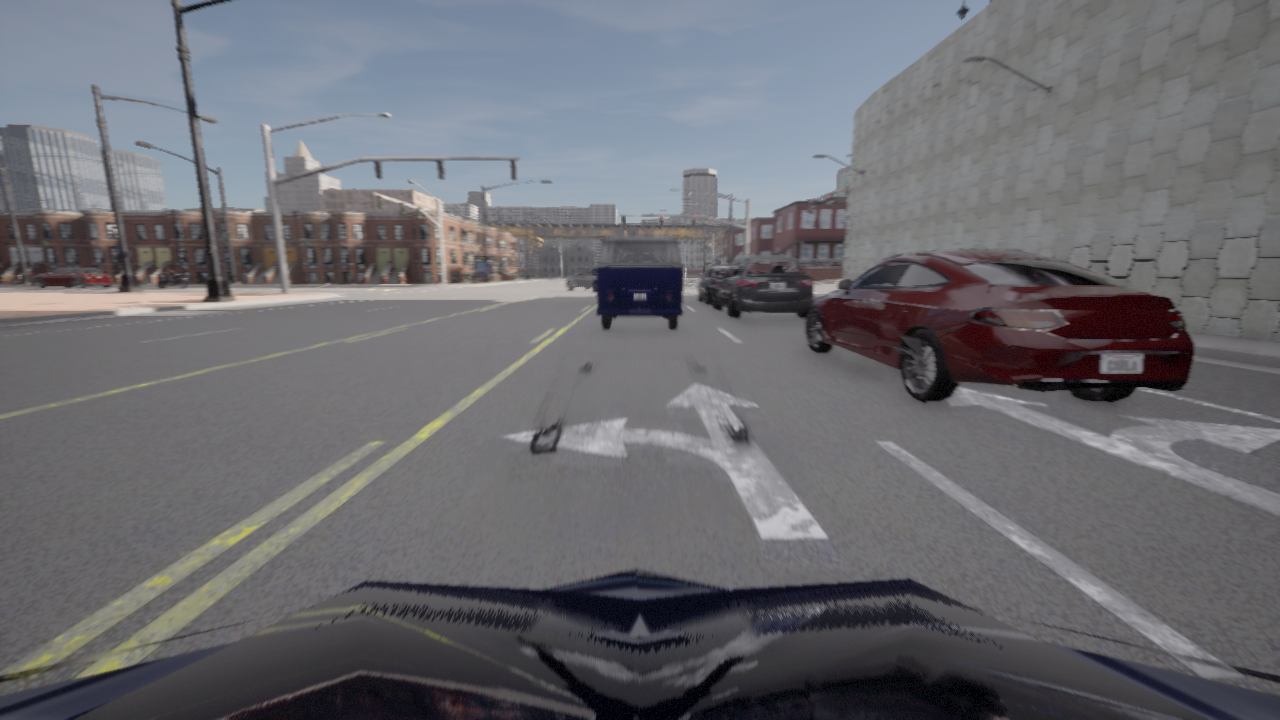cyclist: (0, 569, 1279, 719), (806, 250, 1194, 402), (597, 236, 682, 328), (713, 256, 813, 318), (31, 267, 112, 289), (697, 267, 729, 304), (566, 267, 597, 291), (157, 272, 187, 288)
